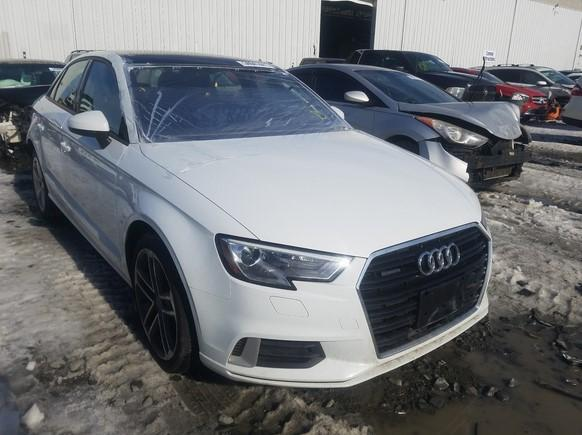Back-door: (33, 57, 92, 210)
Back-wheel: (31, 152, 55, 217)
Back-window: (49, 60, 88, 110)
Fender: (115, 143, 259, 299)
Front-bumper: (185, 239, 493, 388)
Front-door: (59, 57, 129, 269)
Front-wheel: (132, 235, 199, 373)
Front-window: (79, 61, 121, 134)
Grille: (357, 223, 492, 358)
Headlight: (215, 234, 354, 290)
Hood: (140, 131, 482, 258)
License-plate: (417, 275, 464, 331)
Mirror: (67, 110, 111, 149), (331, 105, 344, 119)
Quarter-panel: (26, 93, 47, 188)
Rocker-panel: (47, 192, 132, 288)
Roof: (105, 49, 281, 69)
Windshield: (129, 68, 350, 142)
